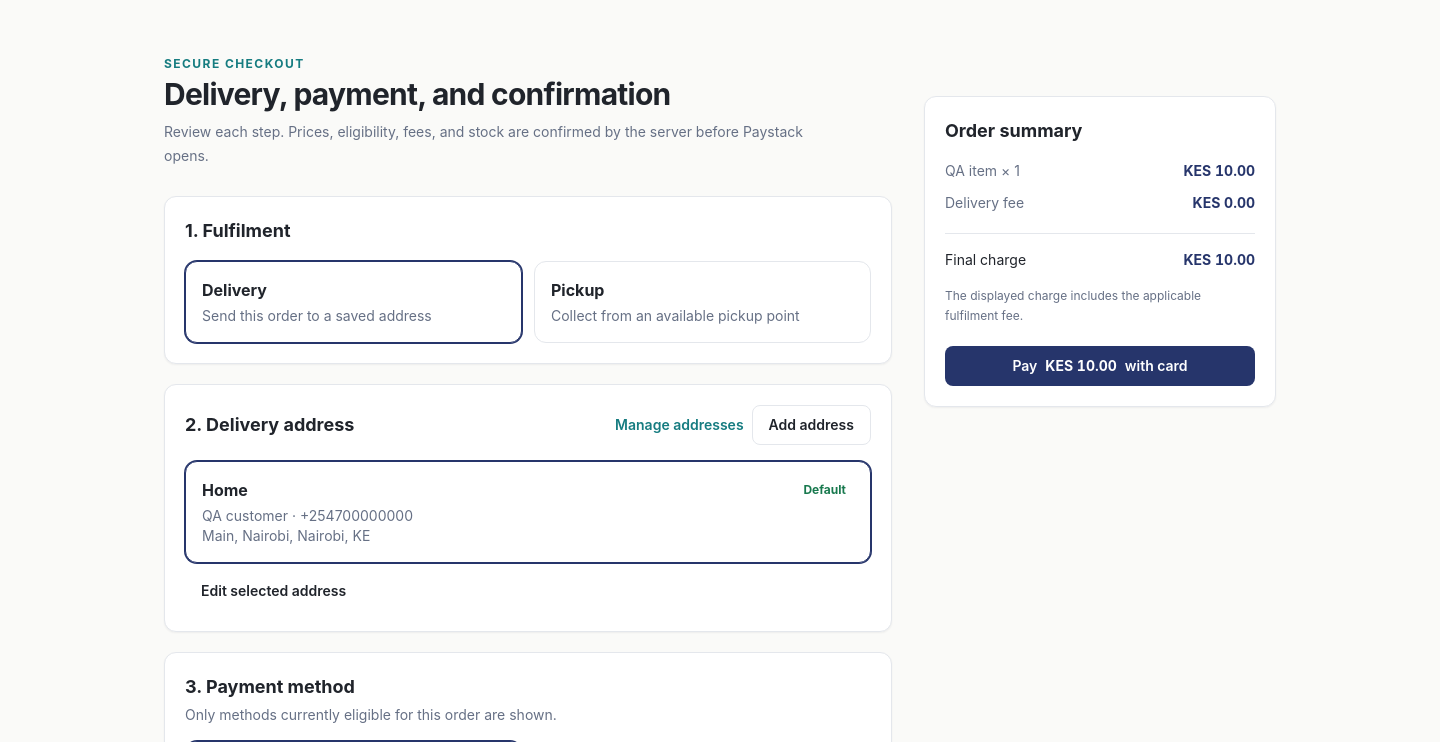
CheckoutPage fulfilment contract › requires a PickupPoint and presents backend validation errors
Click the button "Pickup Collect from an available pickup point" at (578, 290), box [534,261,871,343]
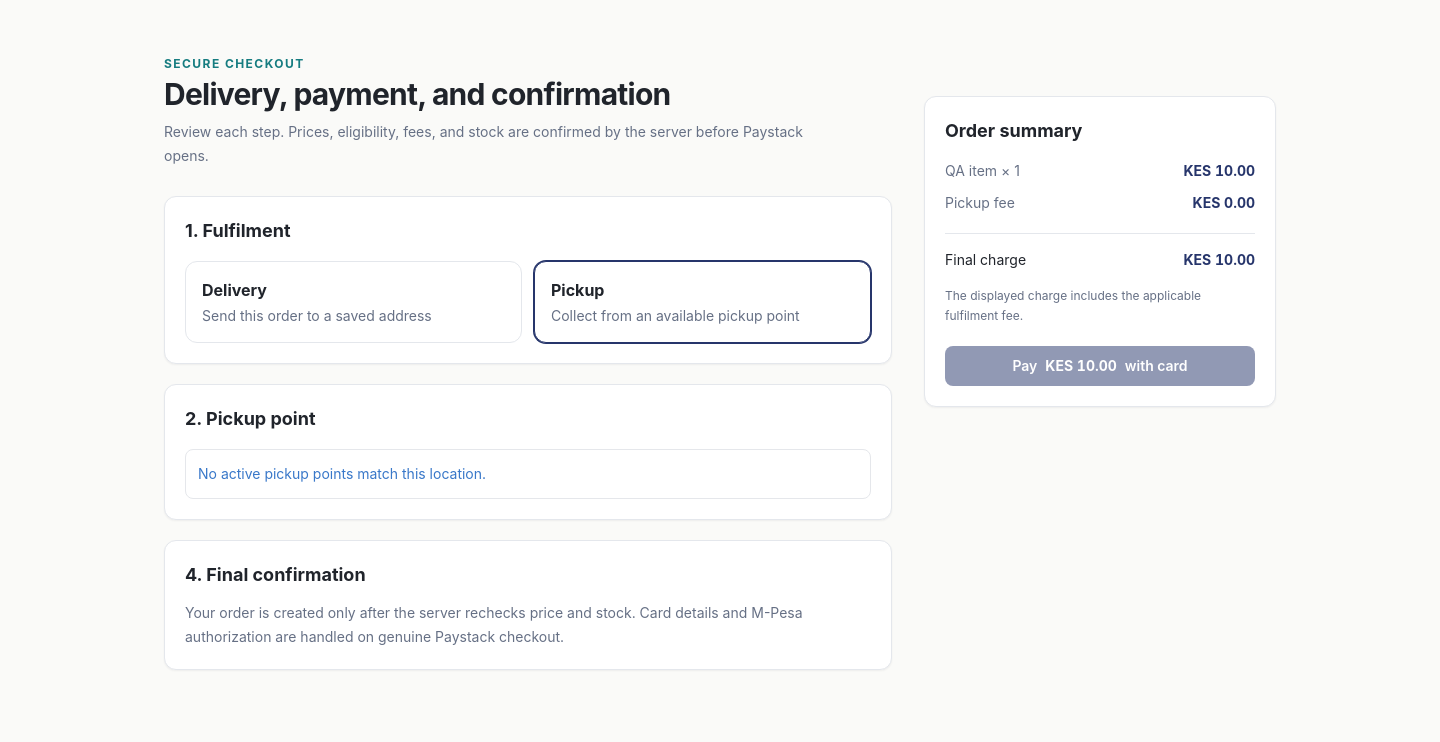
Now the text "No active pickup points match this location." is shown, box [185,449,871,499]
Now the button "Pay KES 10.00 with card" is disabled, box [945,346,1255,386]
